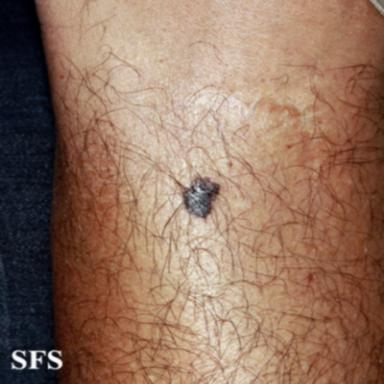Melanoma: (183, 177, 220, 217)
